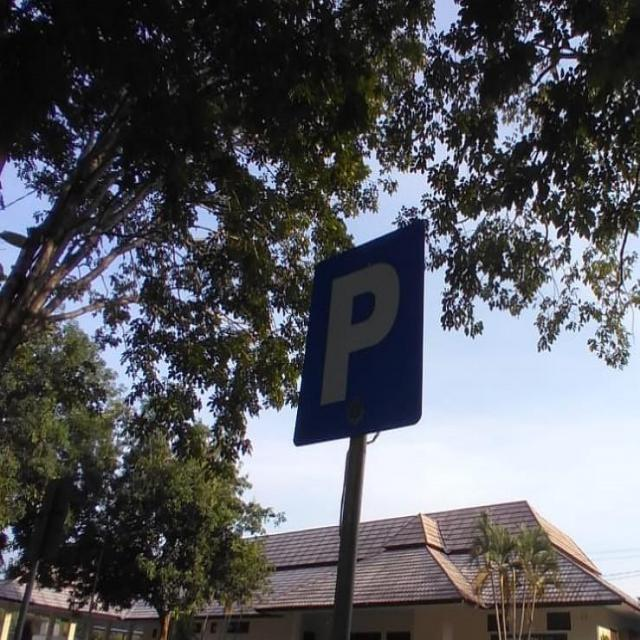traffic sign: (297, 224, 422, 446)
